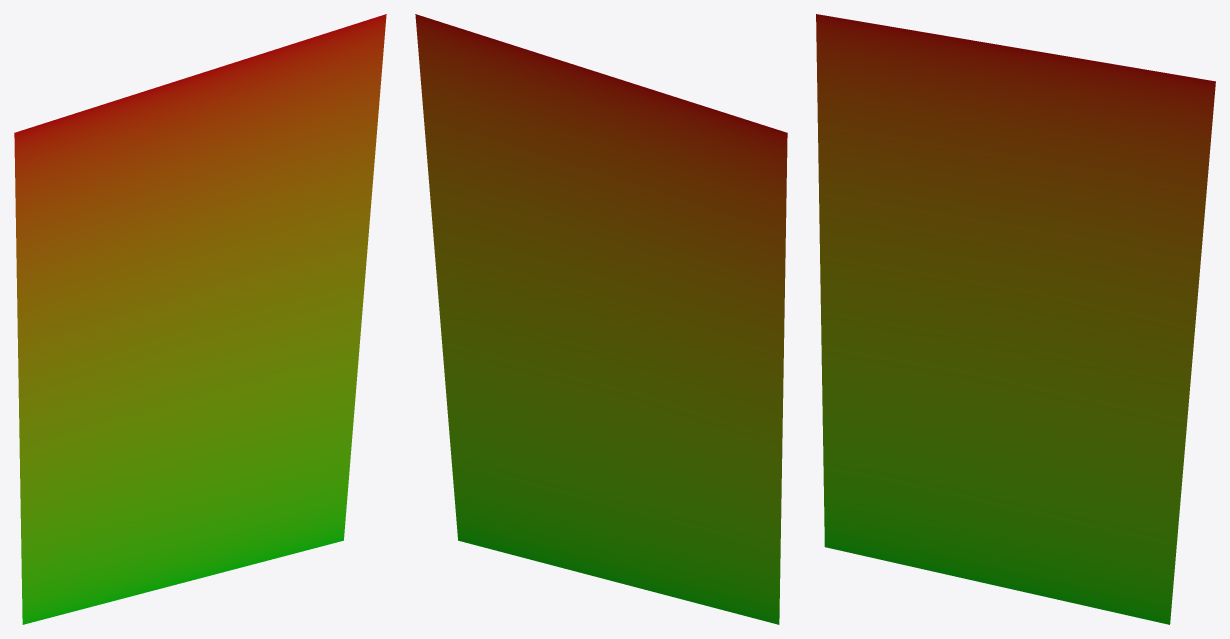
The model's file is Wheat Grass_LOD3_Var2_tdcrdbur.fbx.
The picture shows the model from 3 angles, left to right: view 1: azimuth 30°, elevation 25°; view 2: azimuth 150°, elevation 25°; view 3: azimuth 330°, elevation 25°; orthographic projection. The views are drawn at different scales.
Visible parts, largest first — view 1: _08db_Var2_LOD3; view 2: _08db_Var2_LOD3; view 3: _08db_Var2_LOD3.
Part boxes in pixels (<box>): _08db_Var2_LOD3: <box>14,14,386,624</box>; _08db_Var2_LOD3: <box>415,14,787,624</box>; _08db_Var2_LOD3: <box>816,14,1215,624</box>.
Size of the model in its own units: 89.82 by 120 by 1.91e-06.
